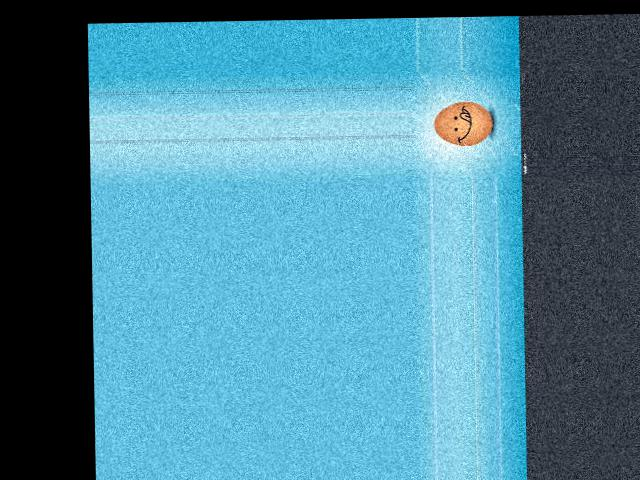egg: (433, 100, 492, 146)
